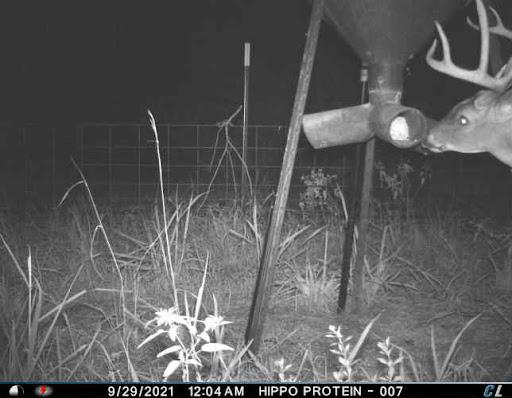Deer: (418, 0, 512, 175)
